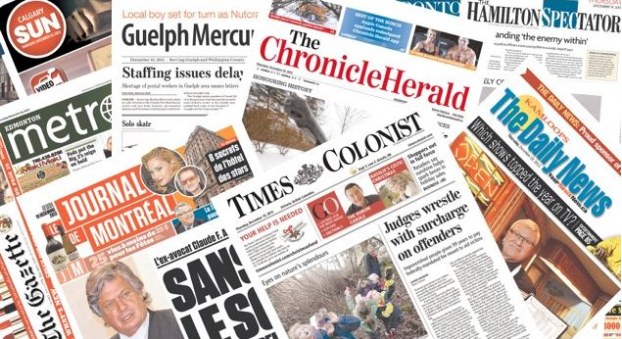news_paper: (1, 93, 371, 339), (200, 100, 530, 339), (89, 1, 403, 217), (406, 28, 622, 338), (219, 2, 507, 219), (1, 1, 206, 139)
